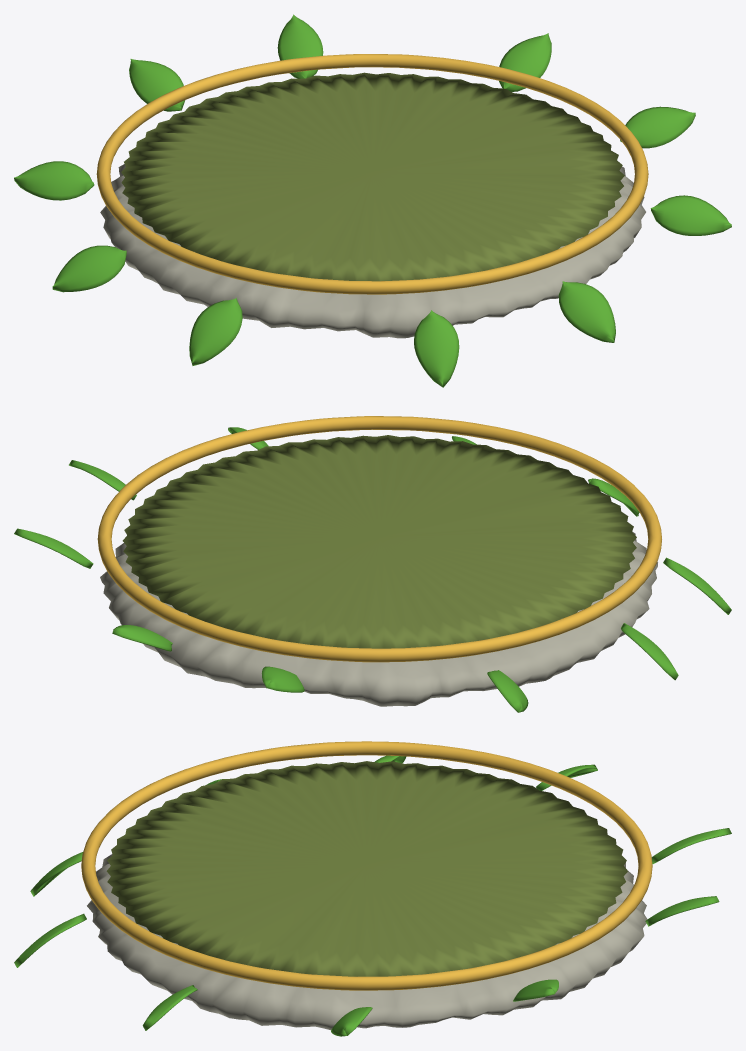
Rendered from ArenaPlatform.glb.
3 views of the same model, one above another, from view 1: azimuth 30°, elevation 25°; view 2: azimuth 150°, elevation 25°; view 3: azimuth 270°, elevation 25° (orthographic). The views are drawn at different scales.
Parts seen in each view (by area): view 1: Top, Base, Rim, L7, L8, L6, L5, L9, L4, L0, L3, L1 (+1 smaller); view 2: Top, Base, Rim, L1, L5, L3, L4, L2, L6, L0, L7; view 3: Top, Base, Rim, L2, L8, L3, L9, L1, L0, L7.
Part boxes in pixels (x1,y1,x2,y2): Top: (121, 72, 624, 281); Base: (100, 164, 645, 338); Rim: (96, 54, 648, 294); L7: (414, 310, 459, 387); L8: (558, 281, 615, 342); L6: (189, 298, 242, 365); L5: (52, 245, 126, 292); L9: (650, 195, 731, 235); L4: (14, 161, 94, 200); L0: (620, 106, 695, 148); L3: (129, 59, 185, 111); L1: (499, 33, 551, 91); Top: (122, 435, 636, 648); Base: (100, 531, 657, 706); Rim: (97, 416, 661, 662); L1: (14, 528, 93, 568); L5: (621, 623, 678, 680); L3: (261, 666, 304, 692); L4: (487, 670, 528, 712); L2: (112, 625, 172, 651); L6: (663, 557, 731, 614); L0: (69, 460, 136, 500); L7: (588, 478, 639, 516); Top: (106, 761, 627, 976); Base: (87, 854, 647, 1030); Rim: (81, 741, 652, 990); L2: (645, 896, 719, 926); L8: (14, 913, 86, 967); L3: (651, 828, 731, 864); L9: (142, 985, 197, 1030); L1: (513, 979, 558, 1001); L0: (331, 1007, 372, 1036); L7: (30, 852, 82, 896).
Bounding box in the file's own units: 5.24 × 0.7142 × 5.08.
